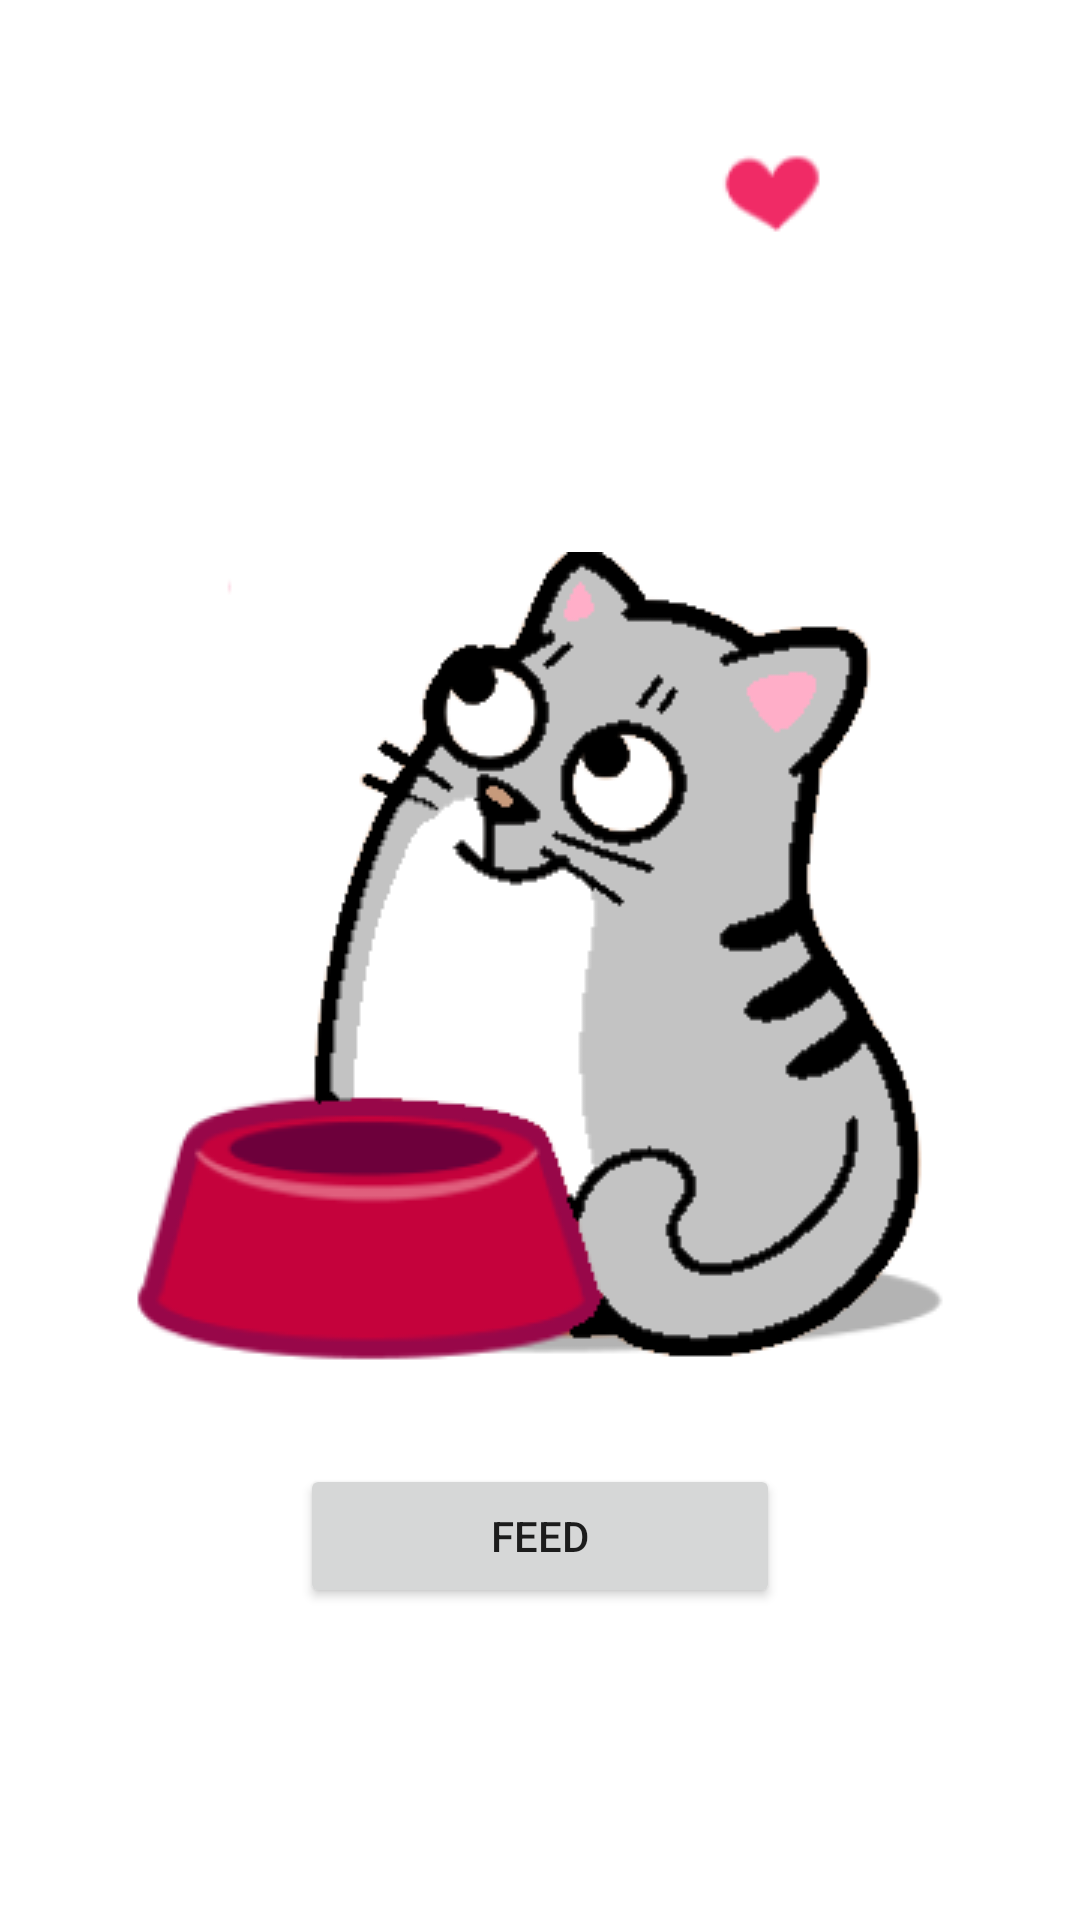

Icons on this 1080px x 1920px Android screen, each with its box as bbox=[x1, y1, x2, y2]:
heart: bbox=[725, 155, 820, 232]
